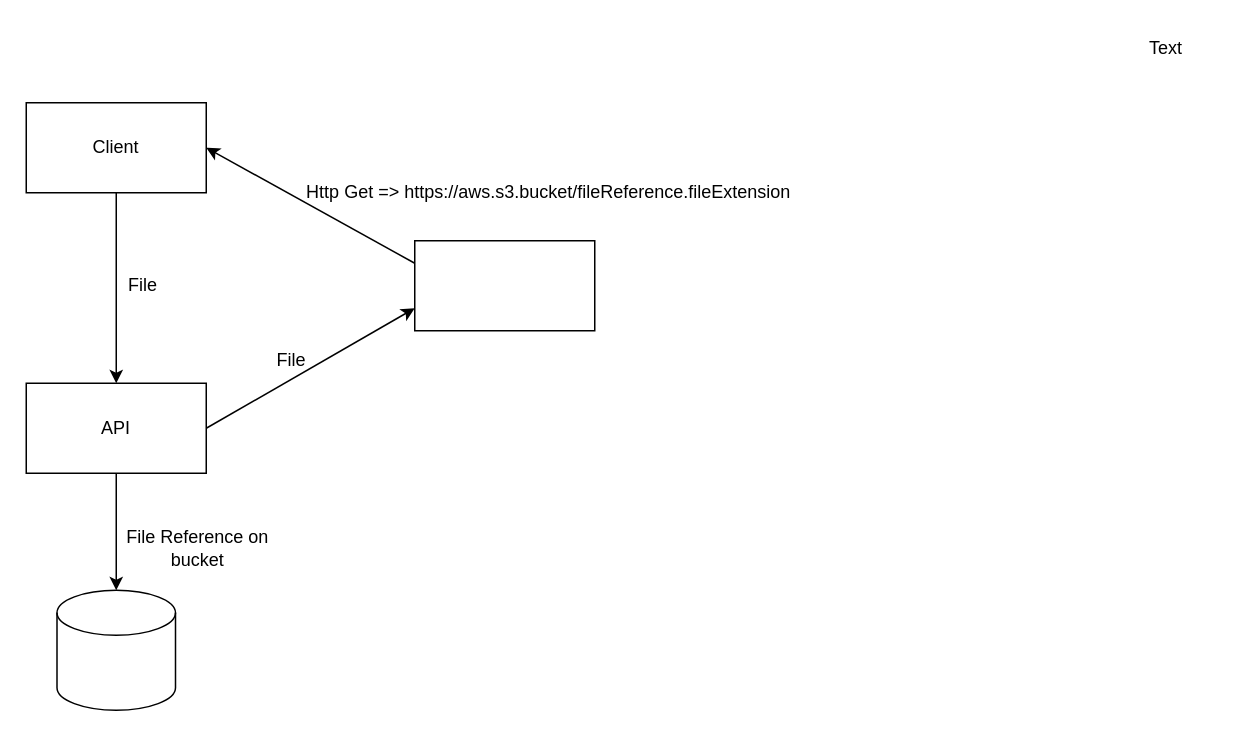
Some shapes in this 1238 by 737 pixel diagram are drawn without their labels. Each missing label, with the box of its shape:
AWS S3 bucket: (413, 239, 595, 331)
Database: (56, 589, 176, 710)
